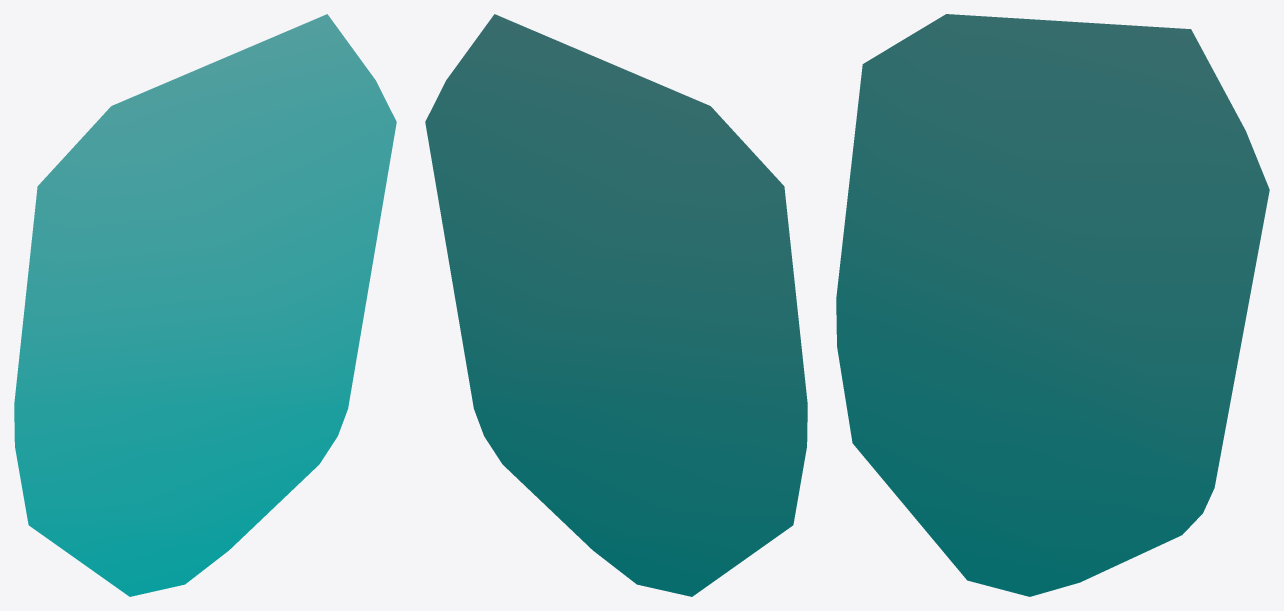
File: Giant_Reed_sjllX_Mid_sjllX_VarA_LOD2.fbx
3 views of the same model, side by side, from view 1: azimuth 30°, elevation 25°; view 2: azimuth 150°, elevation 25°; view 3: azimuth 330°, elevation 25° (orthographic). The views are drawn at different scales.
Parts seen in each view (by area): view 1: _f244_VarA_LOD3; view 2: _f244_VarA_LOD3; view 3: _f244_VarA_LOD3.
Boxes of the visible parts, x1,y1,x2,y2 form: _f244_VarA_LOD3: (14, 14, 396, 596); _f244_VarA_LOD3: (425, 14, 807, 596); _f244_VarA_LOD3: (836, 14, 1269, 596).
Size of the model in its own units: 191 by 255 by 0.
